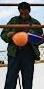boots: (0, 0, 11, 5), (0, 0, 11, 4)
gloves: (0, 43, 4, 53), (0, 46, 3, 56)
hard-hat: (12, 31, 28, 46)
ppe-suit: (0, 0, 22, 45)
